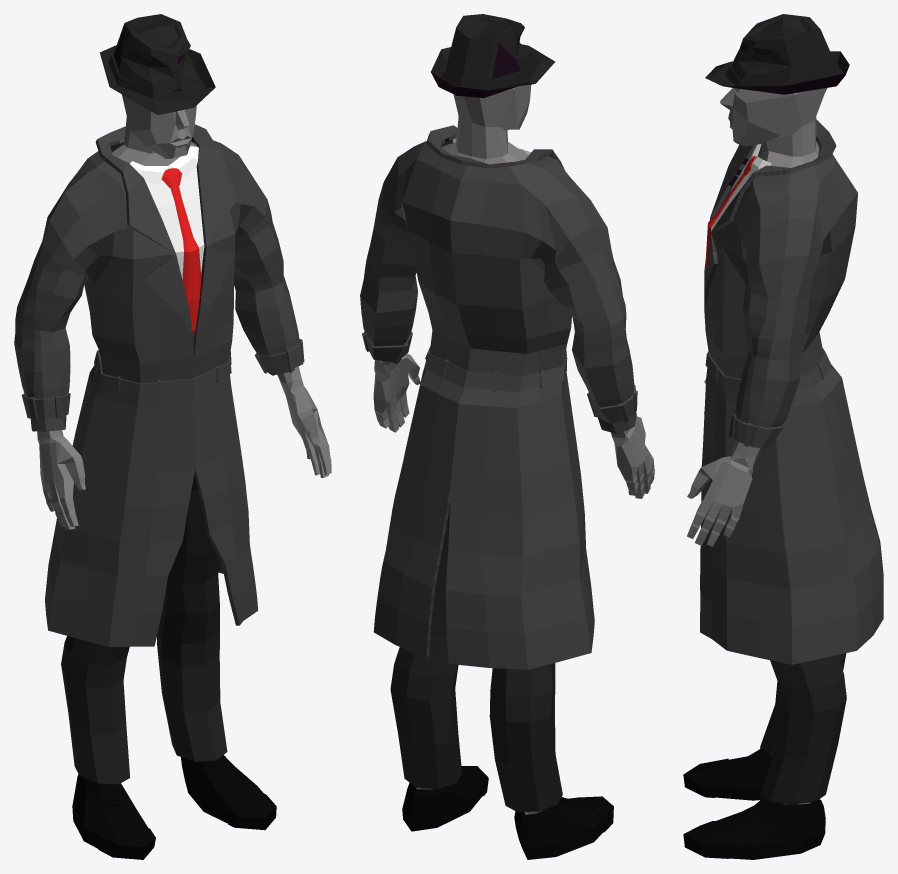
Rendered from detective_reflection.fbx.
3 views of the same model, side by side, from view 1: azimuth 30°, elevation 25°; view 2: azimuth 150°, elevation 25°; view 3: azimuth 270°, elevation 25° (orthographic). The views are drawn at different scales.
Visible parts, largest first — view 1: solid; view 2: solid; view 3: solid.
Boxes of the visible parts, x1,y1,x2,y2 form: solid: [14, 14, 331, 859]; solid: [360, 14, 654, 859]; solid: [683, 14, 883, 859].
Size of the model in its own units: 75.82 by 211 by 48.4.
